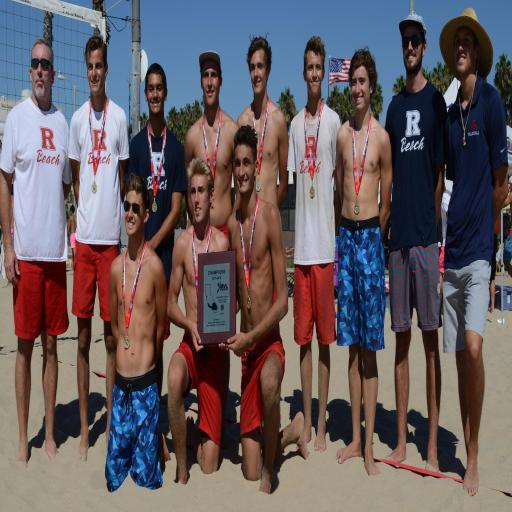person: (440, 9, 507, 496), (221, 126, 308, 493), (0, 39, 71, 467), (386, 12, 446, 471), (70, 37, 129, 460), (337, 48, 392, 475), (288, 36, 340, 452), (168, 159, 229, 483), (106, 175, 166, 492), (127, 64, 187, 289), (185, 51, 238, 237), (238, 37, 288, 209), (440, 188, 451, 299), (489, 217, 500, 313), (68, 205, 76, 264), (502, 229, 511, 276)
